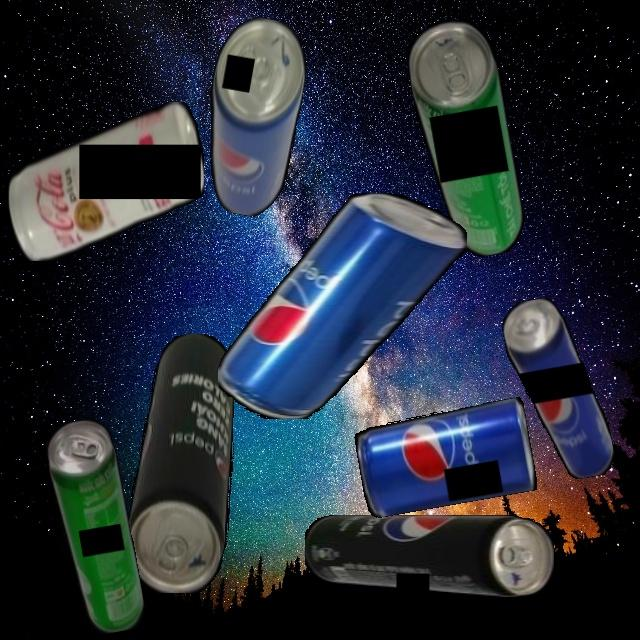debris: (218, 192, 467, 419), (402, 15, 530, 263), (7, 101, 204, 261), (127, 333, 234, 593), (191, 12, 314, 221), (42, 415, 148, 638), (499, 291, 617, 487), (353, 397, 538, 519), (304, 515, 554, 598)
